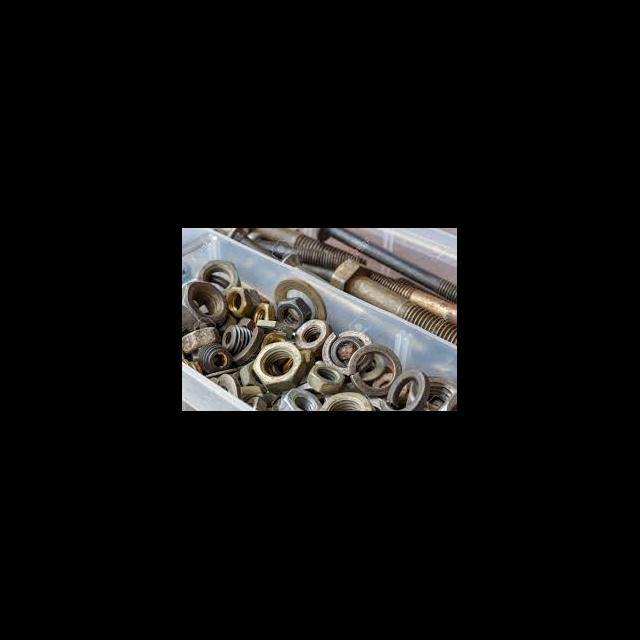metal: (326, 256, 456, 350), (344, 342, 409, 398), (248, 338, 310, 394), (316, 320, 376, 370), (182, 274, 230, 332), (378, 362, 431, 410), (196, 254, 246, 298), (290, 312, 338, 354), (312, 384, 376, 411), (182, 320, 222, 358), (194, 338, 237, 372), (220, 282, 258, 320), (270, 296, 312, 330), (216, 322, 260, 354), (278, 386, 324, 410), (248, 300, 276, 328)
